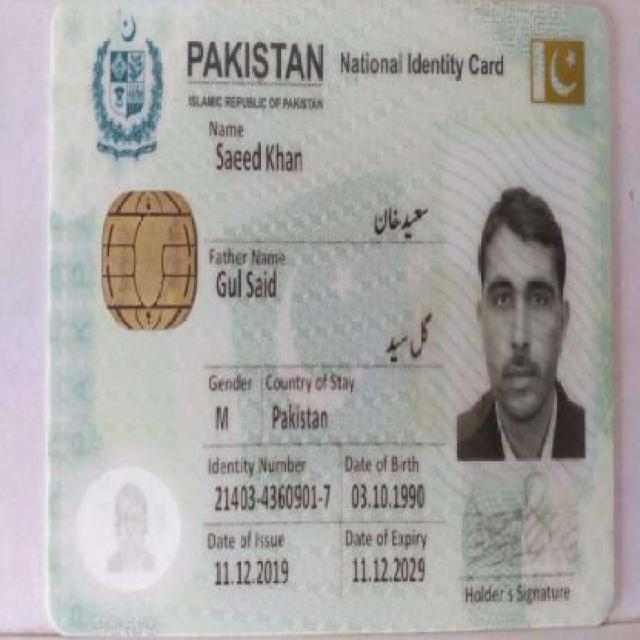Front: (31, 6, 618, 625)
